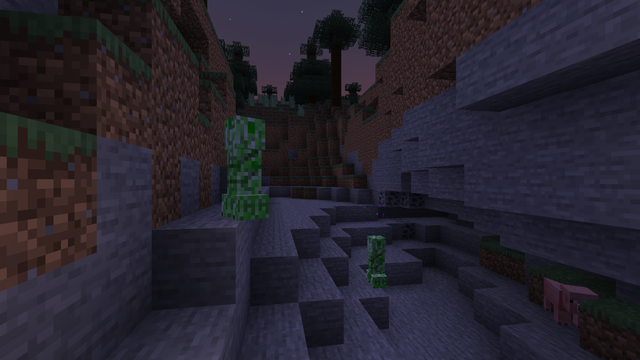cochons: (534, 277, 586, 329)
creepers: (222, 110, 263, 219), (365, 232, 387, 286)
